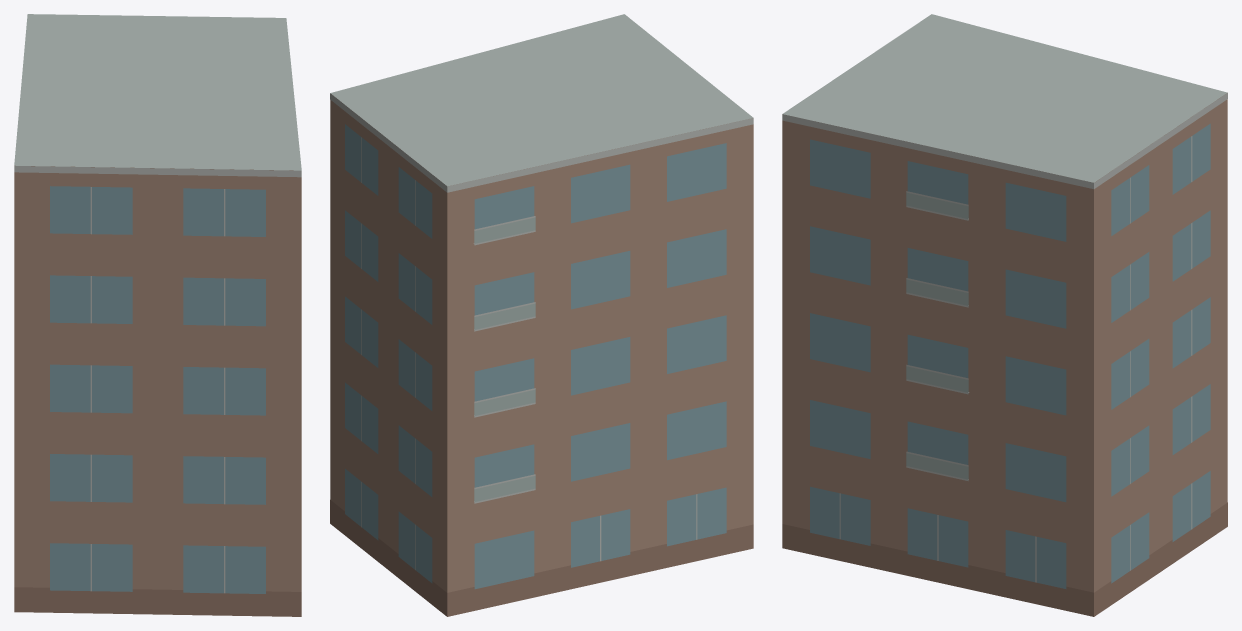
File: survey-upis-32679414.glb
The picture shows the model from 3 angles, left to right: view 1: azimuth 30°, elevation 25°; view 2: azimuth 150°, elevation 25°; view 3: azimuth 270°, elevation 25°; orthographic projection. The views are drawn at different scales.
Parts seen in each view (by area): view 1: survey-upis-32679414.tmp; view 2: survey-upis-32679414.tmp; view 3: survey-upis-32679414.tmp.
Boxes of the visible parts, <box> form: survey-upis-32679414.tmp: <box>14,14,301,616</box>; survey-upis-32679414.tmp: <box>330,14,753,616</box>; survey-upis-32679414.tmp: <box>782,14,1227,616</box>.
Bounding box in the file's own units: 13.69 × 16.4 × 15.26.
